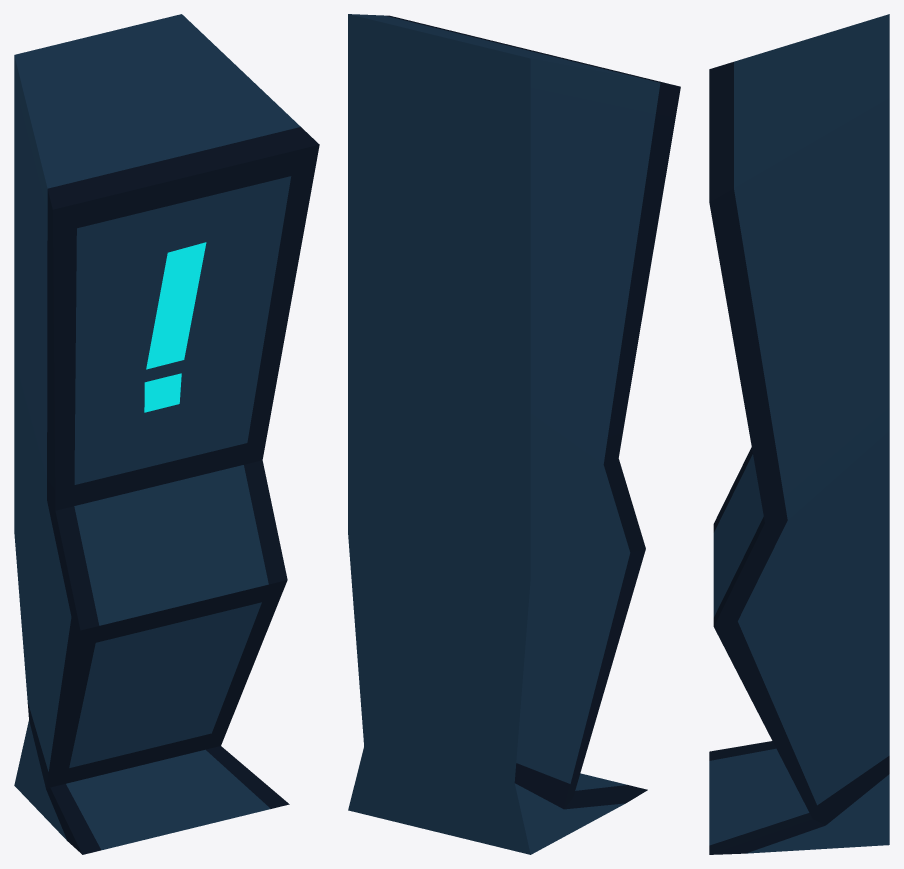
File: inf.glb
3 views of the same model, side by side, from view 1: azimuth 30°, elevation 25°; view 2: azimuth 150°, elevation 25°; view 3: azimuth 270°, elevation 25° (orthographic). The views are drawn at different scales.
Parts seen in each view (by area): view 1: winapp; view 2: winapp; view 3: winapp.
Boxes of the visible parts, left/top/right/bottom form: winapp: left=14, top=14, right=319, bottom=854; winapp: left=348, top=14, right=680, bottom=854; winapp: left=709, top=14, right=889, bottom=854.
Bounding box in the file's own units: 1.02 × 2.67 × 0.5829.
Materials: 1 (1 with a texture image).
